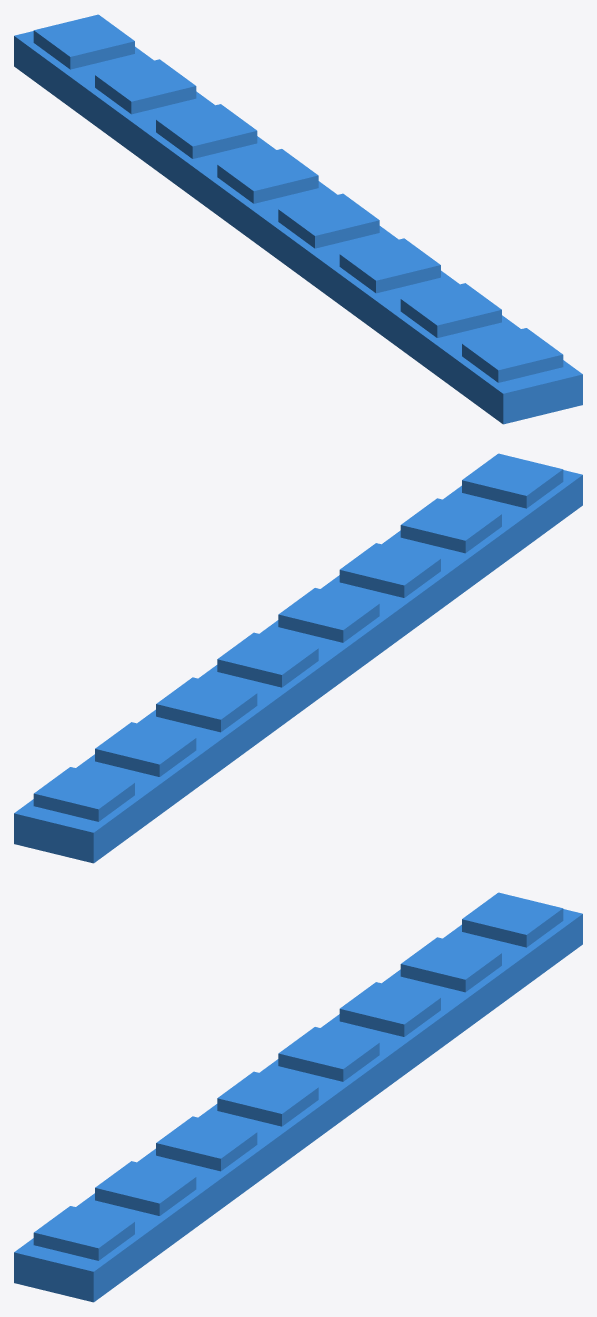
Rendered from Lego_Part_13.fbx.
3 views of the same model, one above another, from view 1: azimuth 30°, elevation 25°; view 2: azimuth 150°, elevation 25°; view 3: azimuth 330°, elevation 25° (orthographic).
Visible parts, largest first — view 1: Lego_Part_13; view 2: Lego_Part_13; view 3: Lego_Part_13.
Boxes of the visible parts, x1,y1,x2,y2 form: Lego_Part_13: (14,14,582,424); Lego_Part_13: (14,453,582,863); Lego_Part_13: (14,892,582,1302).
Bounding box in the file's own units: 2.08 × 1.08 × 22.09.
1 material, 1 textured.
